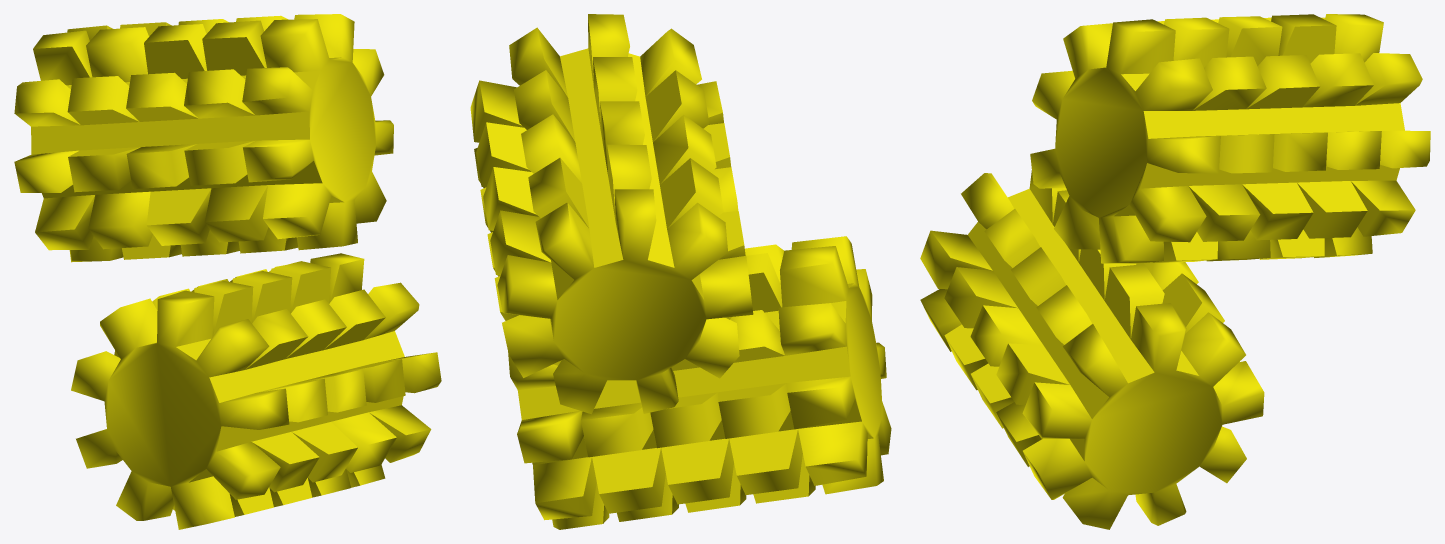
The model's file is centriole.glb.
3 renders of one model, left to right at view 1: azimuth 30°, elevation 25°; view 2: azimuth 150°, elevation 25°; view 3: azimuth 270°, elevation 25°, orthographic. The views are drawn at different scales.
Visible parts, largest first — view 1: Centriole; view 2: Centriole; view 3: Centriole.
Part boxes in pixels (box(x1,y1,x2,y2)): Centriole: box(14, 14, 441, 529); Centriole: box(470, 14, 891, 529); Centriole: box(920, 14, 1430, 529).
Size of the model in its own units: 1.99 by 2.66 by 2.52.
